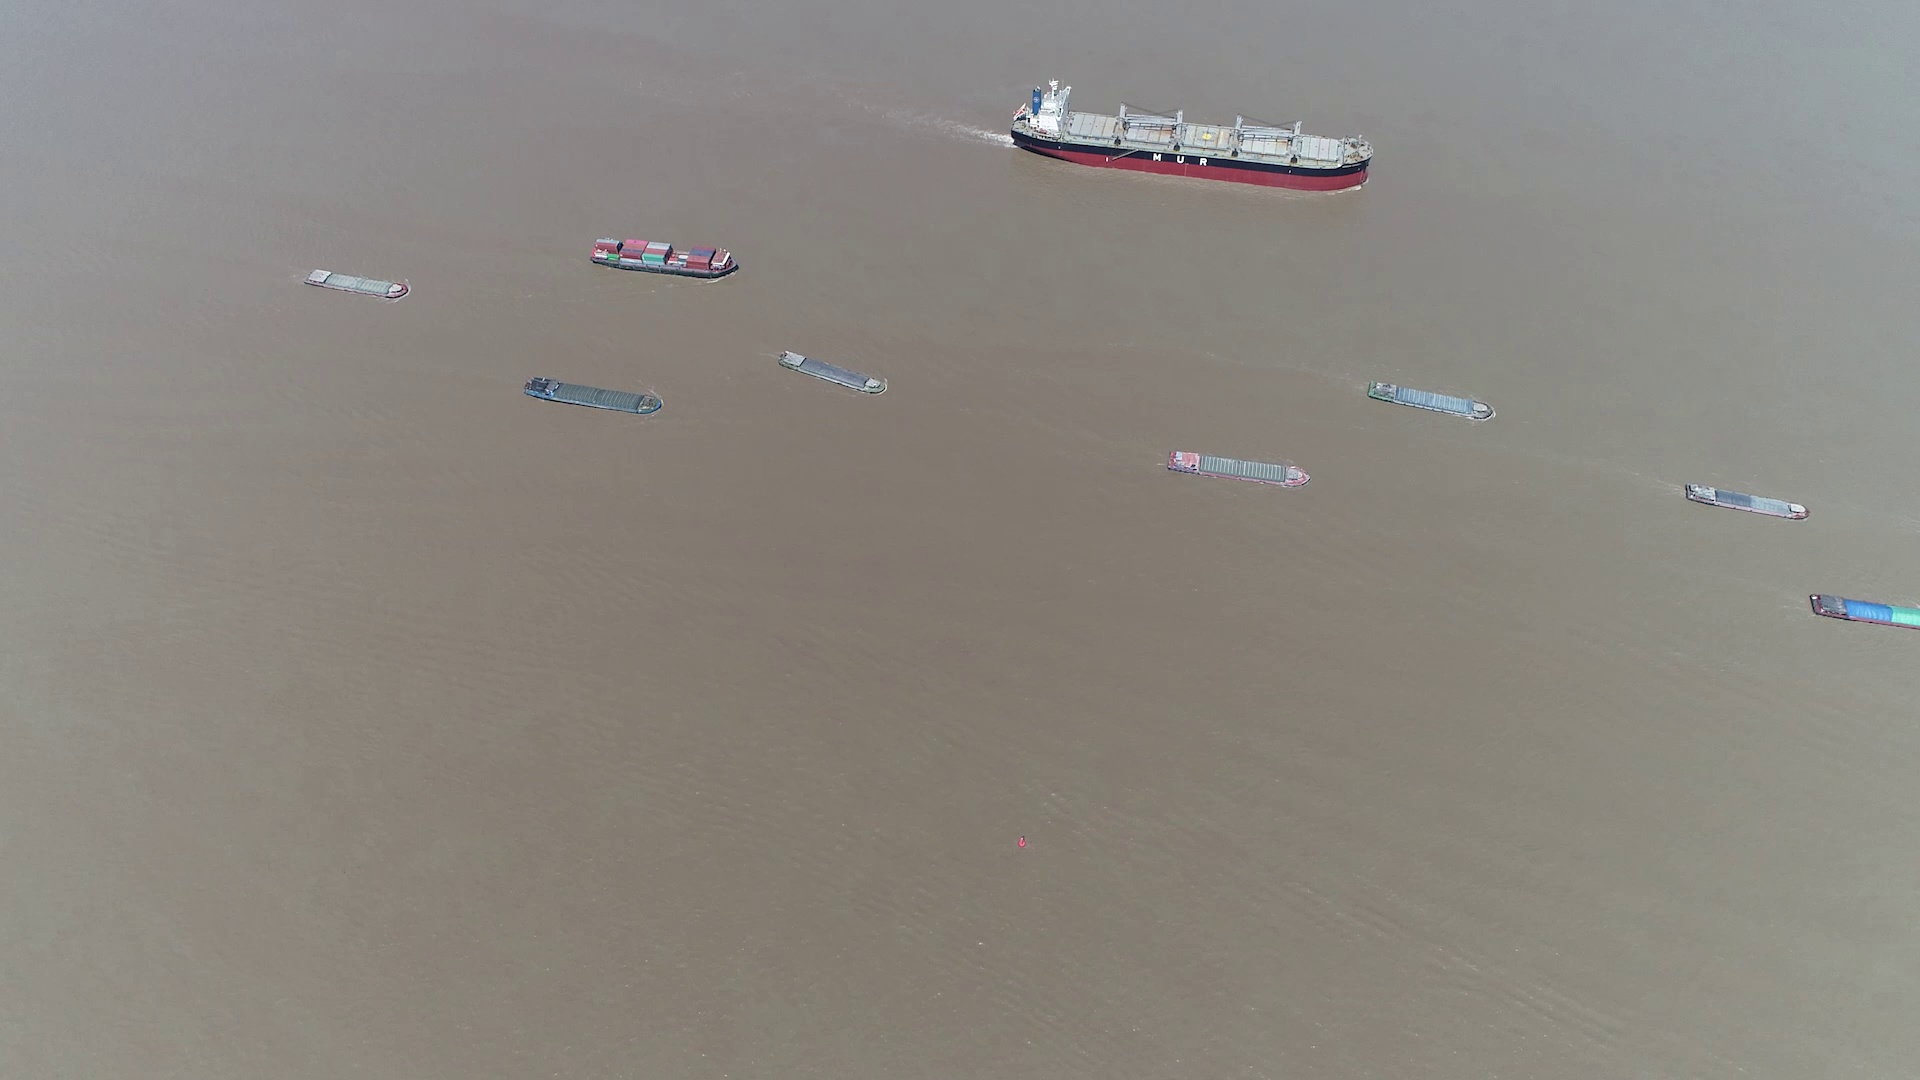ship: (1011, 86, 1369, 189), (589, 237, 742, 278), (1163, 447, 1311, 488), (524, 378, 663, 417), (1369, 378, 1494, 421), (778, 349, 889, 397), (1683, 483, 1811, 524), (1809, 593, 1920, 632), (303, 266, 409, 301)
